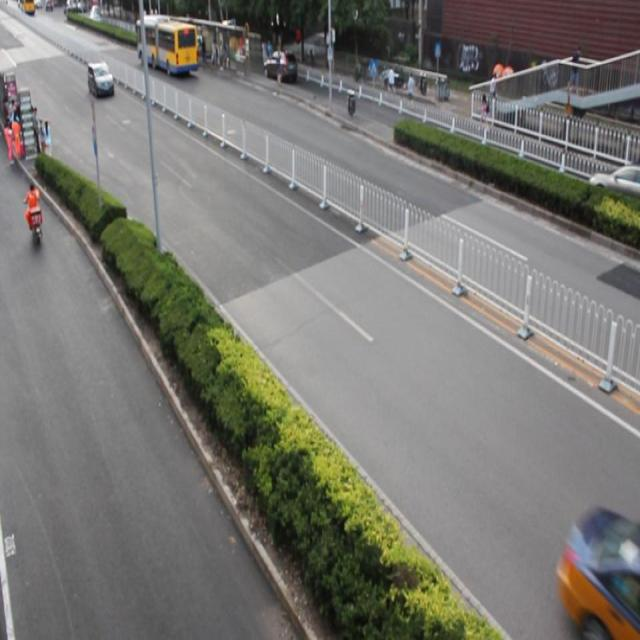car: (560, 511, 640, 640), (586, 160, 640, 218), (262, 49, 297, 85)
van: (137, 13, 197, 77)
